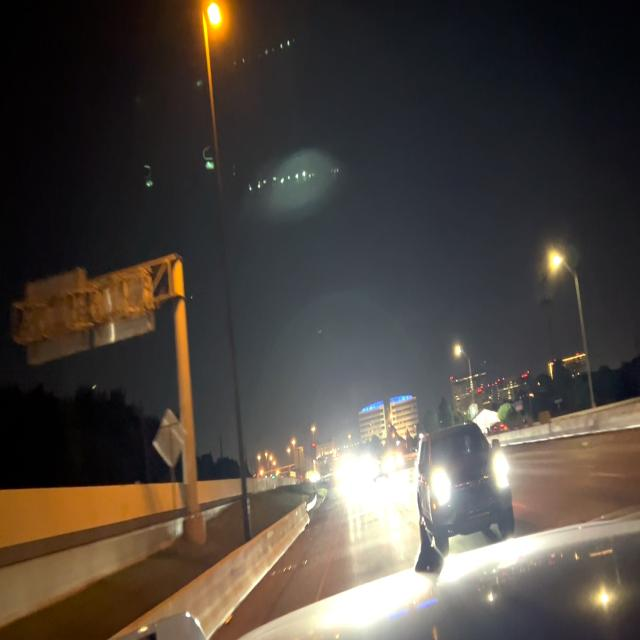back-of-sign: (28, 267, 89, 369), (95, 270, 157, 348), (154, 408, 187, 471)
